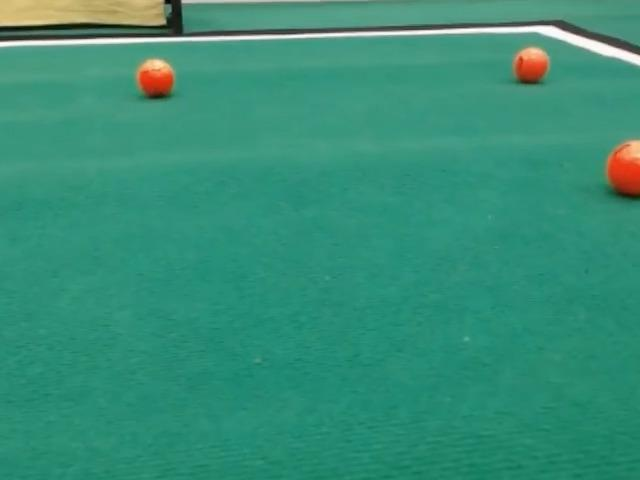Ball: (606, 140, 639, 196), (136, 59, 174, 97), (513, 47, 549, 83)
